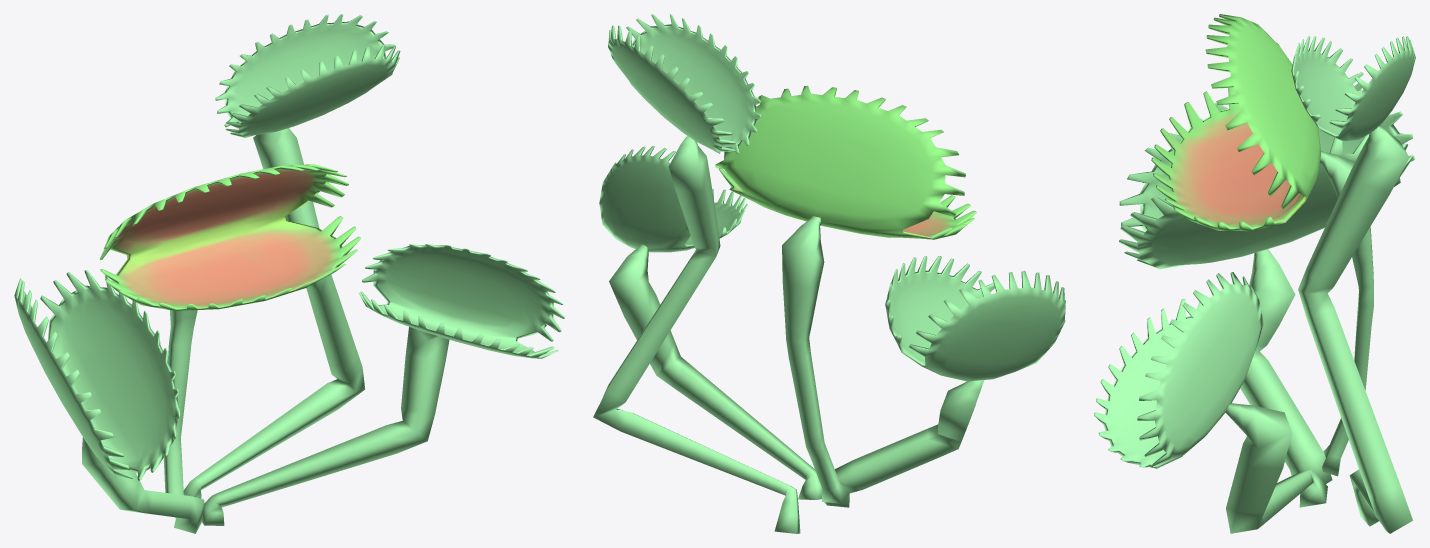
The model's file is Lilia_Plants_Temp.fbx.
The picture shows the model from 3 angles, left to right: view 1: azimuth 30°, elevation 25°; view 2: azimuth 150°, elevation 25°; view 3: azimuth 270°, elevation 25°; orthographic projection. The views are drawn at different scales.
Parts seen in each view (by area): view 1: Cube.009, Plane.001, Cube.011, Cube.010, Cube.012, Plane; view 2: Cube.009, Plane.001, Cube.011, Cube.012, Cube.010, Plane; view 3: Plane.001, Cube.009, Cube.010, Cube.011, Cube.012, Plane.
Boxes of the visible parts, left/top/right/bottom form: Cube.009: left=100, top=164, right=360, bottom=310; Plane.001: left=82, top=128, right=449, bottom=533; Cube.011: left=14, top=270, right=180, bottom=481; Cube.010: left=359, top=244, right=564, bottom=358; Cube.012: left=215, top=14, right=400, bottom=137; Plane: left=163, top=310, right=197, bottom=495; Cube.009: left=715, top=85, right=976, bottom=239; Plane.001: left=593, top=136, right=984, bottom=533; Cube.011: left=885, top=256, right=1065, bottom=381; Cube.012: left=608, top=14, right=760, bottom=153; Cube.010: left=599, top=146, right=747, bottom=252; Plane: left=782, top=216, right=849, bottom=503; Plane.001: left=1225, top=126, right=1412, bottom=533; Cube.009: left=1151, top=14, right=1320, bottom=231; Cube.010: left=1094, top=272, right=1263, bottom=468; Cube.011: left=1119, top=83, right=1414, bottom=269; Cube.012: left=1291, top=36, right=1415, bottom=140; Plane: left=1319, top=151, right=1373, bottom=476.
Bounding box in the file's own units: 480 × 455 × 238.
Materials: 2 (1 with a texture image).
